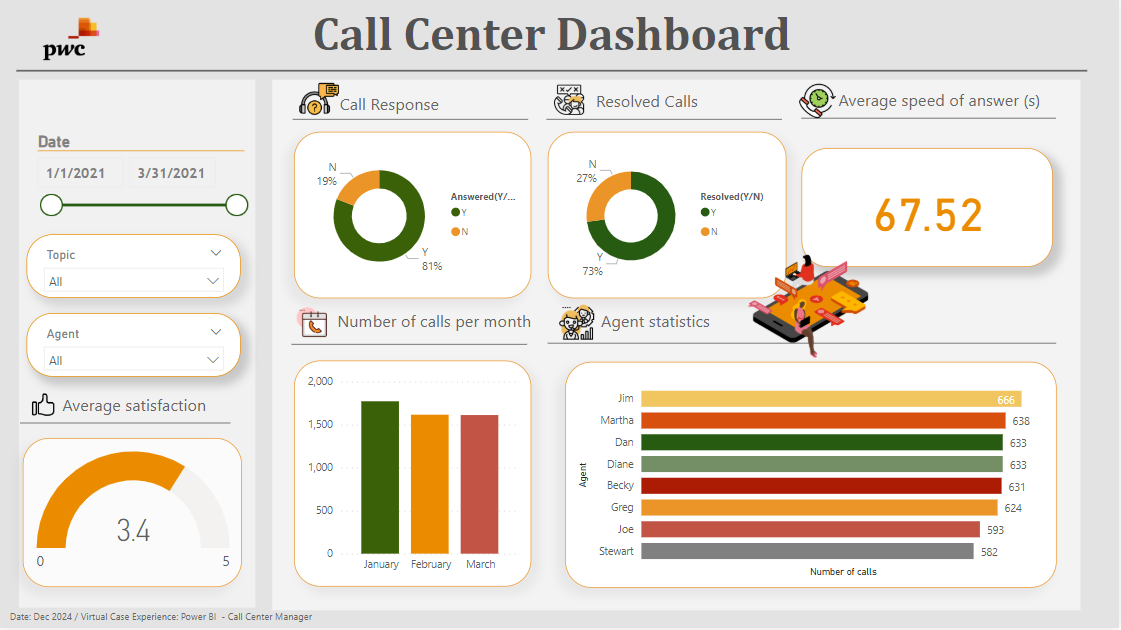

This screenshot's page, from the dashboard's own definition file:
{"tool":"powerbi","page":{"name":"Call Center Manager","canvas":[1280,720],"ordinal":0},"visuals":[{"type":"textbox","box":[19,4.8,1225.8,75],"z":0},{"type":"basicShape","box":[9.5,63.1,1243.6,40.5],"z":1000},{"type":"basicShape","box":[20,87.1,275.7,615.7],"z":2000},{"type":"basicShape","box":[302.3,86.9,942.5,618.8],"z":3000},{"type":"image","box":[20.2,0,125,94],"z":4000},{"type":"image","box":[32.9,447.1,35.7,35.7],"z":5000},{"type":"textbox","box":[67.1,447.1,188.6,35.7],"z":6000},{"type":"basicShape","box":[14.3,465.7,260,40],"z":7000},{"type":"textbox","box":[384.9,102.7,172.6,35.6],"z":8000},{"type":"textbox","box":[676.7,100,183.6,35.6],"z":9000},{"type":"basicShape","box":[906.8,117.8,310.6,40.5],"z":10000},{"type":"textbox","box":[953.9,98.3,250.2,35.7],"z":11000},{"type":"basicShape","box":[325,118.4,289,40.2],"z":12000},{"type":"basicShape","box":[616,118.4,289,40.2],"z":13000},{"type":"textbox","box":[380.8,350.7,250.7,35.6],"z":15000},{"type":"basicShape","box":[325,375.7,289.3,40.2],"z":16000},{"type":"textbox","box":[683.6,350.7,252.1,35.6],"z":17000},{"type":"basicShape","box":[616.5,374.9,601,40.5],"z":18000},{"type":"textbox","box":[7.1,691.4,403.4,28.6],"z":19000},{"type":"donutChart","title":"Call Response","fields":{"Category":["Call Center.Answered (Y/N)"],"Y":["Call Center.Call Id"]},"box":[337.1,152.9,271.4,190],"z":20000},{"type":"donutChart","title":"Resolved Calls","fields":{"Category":["Call Center.Resolved"],"Y":["Call Center.Call Id"]},"box":[627.1,152.9,272.9,190],"z":21000},{"type":"card","fields":{"Values":["Call Center.Speed of answer in seconds"]},"box":[917.1,171.4,287.1,135.7],"z":22000},{"type":"gauge","title":"Average of Satisfaction rating","fields":{"Y":["Call Center.Satisfaction rating"],"MaxValue":["Sum(Call Center.Satisfaction rating)1"]},"box":[27.1,502.9,250,170],"z":23000},{"type":"clusteredBarChart","title":"Count of Call ID by Agent","fields":{"Y":["Call Center.Call Id"],"Category":["Call Center.Agent"]},"box":[647.1,415.7,561.4,258.6],"z":24000},{"type":"clusteredColumnChart","title":"Number of Calls per Month","fields":{"Y":["Call Center.Call Id"],"Category":["Call Center.Date.Variation.Date Hierarchy.Month"]},"box":[337.1,414.3,271.4,258.6],"z":25000},{"type":"image","box":[796.2,249.9,277.3,188],"z":26000},{"type":"image","box":[908.2,82.2,53.4,69.9],"z":27000},{"type":"image","box":[627.2,94,48.8,44],"z":28000},{"type":"image","box":[337,86.3,57.5,58.9],"z":29000},{"type":"image","box":[330.8,342.7,52.4,54.7],"z":30000},{"type":"image","box":[630.7,345.1,58.3,50],"z":31000},{"type":"slicer","fields":{"Values":["Call Center.Topic"]},"box":[30.9,270.1,245.2,72.6],"z":33000},{"type":"slicer","fields":{"Values":["Call Center.Agent"]},"box":[30.9,360.6,245.2,72.6],"z":34000},{"type":"slicer","fields":{"Values":["Call Center.Date"]},"box":[31.4,148.6,261.4,182.9],"z":36000}]}

Visuals, with their boxes in screenshot pixels (x1, y1, x2, y2), scaled from the page's 1280x720 canvas onto the 1121x630 screenshot:
textbox: locate(17, 4, 1090, 70)
basicShape: locate(8, 55, 1097, 91)
basicShape: locate(18, 76, 259, 615)
basicShape: locate(265, 76, 1090, 617)
image: locate(18, 0, 127, 82)
image: locate(29, 391, 60, 422)
textbox: locate(59, 391, 224, 422)
basicShape: locate(13, 407, 240, 442)
textbox: locate(337, 90, 488, 121)
textbox: locate(593, 88, 753, 119)
basicShape: locate(794, 103, 1066, 139)
textbox: locate(835, 86, 1055, 117)
basicShape: locate(285, 104, 538, 139)
basicShape: locate(539, 104, 793, 139)
textbox: locate(333, 307, 553, 338)
basicShape: locate(285, 329, 538, 364)
textbox: locate(599, 307, 819, 338)
basicShape: locate(540, 328, 1066, 363)
textbox: locate(6, 605, 360, 629)
"Call Response" donutChart: locate(295, 134, 533, 300)
"Resolved Calls" donutChart: locate(549, 134, 788, 300)
card - Call Center.Speed of answer in seconds: locate(803, 150, 1055, 269)
"Average of Satisfaction rating" gauge: locate(24, 440, 243, 589)
"Count of Call ID by Agent" clusteredBarChart: locate(567, 364, 1058, 590)
"Number of Calls per Month" clusteredColumnChart: locate(295, 363, 533, 589)
image: locate(697, 219, 940, 383)
image: locate(795, 72, 842, 133)
image: locate(549, 82, 592, 121)
image: locate(295, 76, 345, 127)
image: locate(290, 300, 336, 348)
image: locate(552, 302, 603, 346)
slicer - Call Center.Topic: locate(27, 236, 242, 300)
slicer - Call Center.Agent: locate(27, 316, 242, 379)
slicer - Call Center.Date: locate(27, 130, 256, 290)
